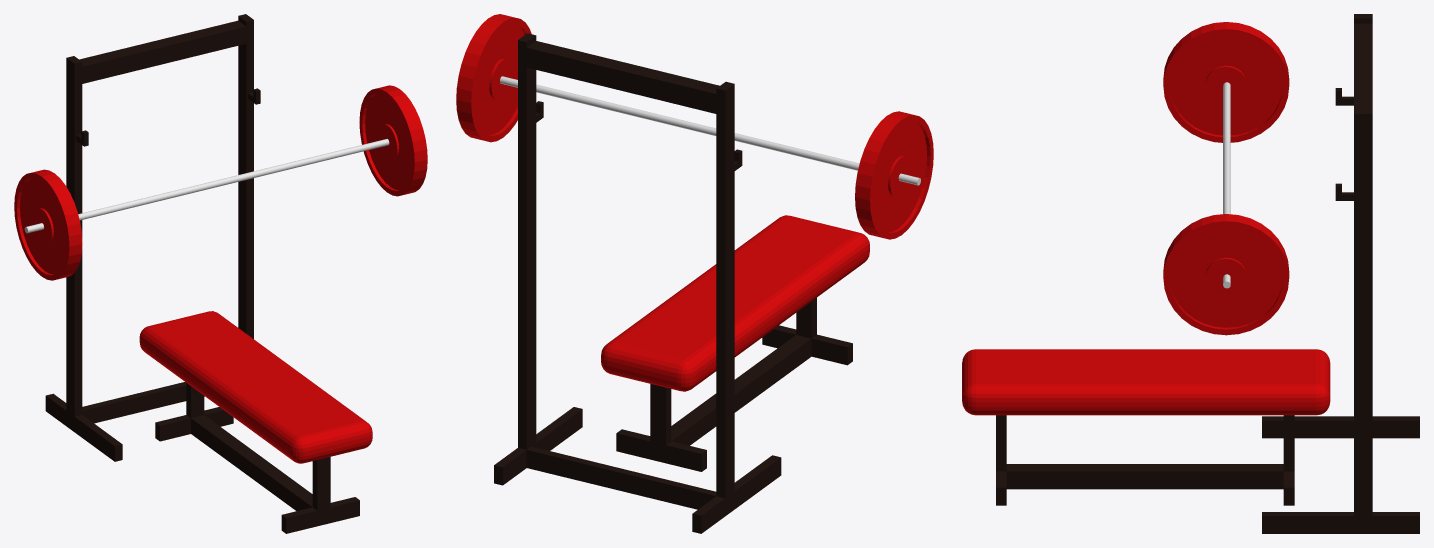
Rendered from Stand2.fbx.
The picture shows the model from 3 angles, left to right: view 1: azimuth 30°, elevation 25°; view 2: azimuth 150°, elevation 25°; view 3: azimuth 270°, elevation 25°; orthographic projection. The views are drawn at different scales.
Parts seen in each view (by area): view 1: Barbell_mesh, Leg.001; view 2: Barbell_mesh, Leg.001; view 3: Barbell_mesh, Leg.001.
Boxes of the visible parts, x1=… form: Barbell_mesh: x1=45, y1=14, x2=372, y2=533; Leg.001: x1=14, y1=85, x2=427, y2=280; Barbell_mesh: x1=494, y1=33, x2=869, y2=533; Leg.001: x1=456, y1=14, x2=933, y2=239; Barbell_mesh: x1=962, y1=14, x2=1419, y2=533; Leg.001: x1=1163, y1=22, x2=1289, y2=335.
Bounding box in the file's own units: 162 × 148 × 146.
